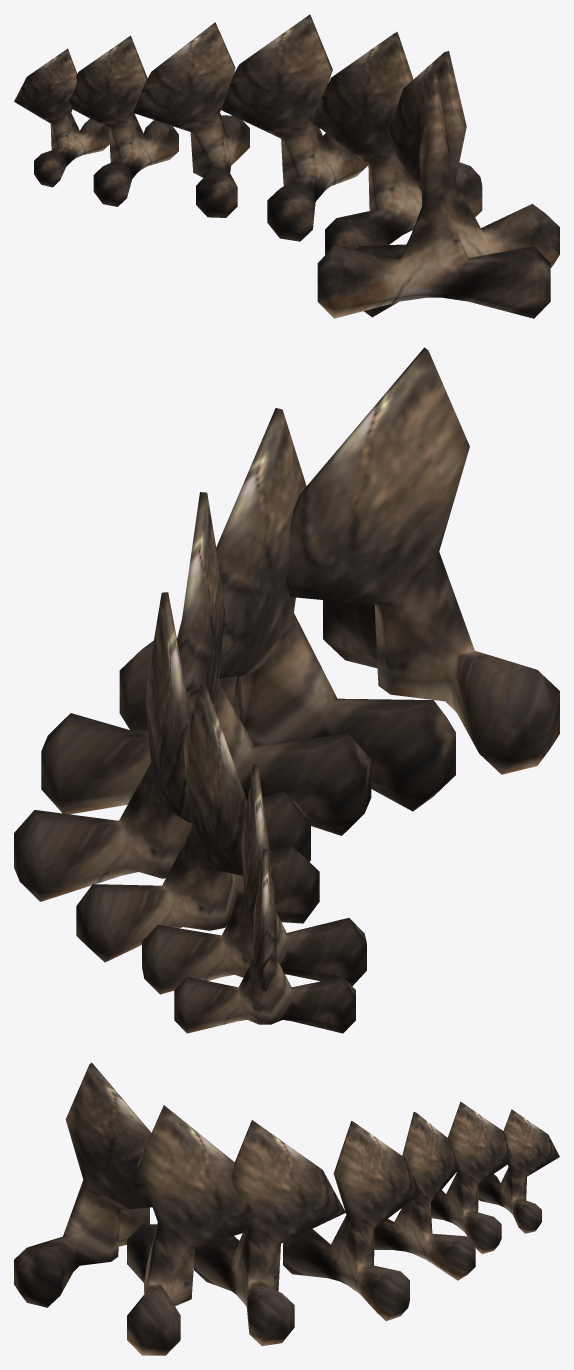
3 renders of one model, top to bottom at view 1: azimuth 30°, elevation 25°; view 2: azimuth 150°, elevation 25°; view 3: azimuth 270°, elevation 25°, orthographic. The views are drawn at different scales.
Visible parts, largest first — view 1: SMDImport; view 2: SMDImport; view 3: SMDImport.
Part boxes in pixels (x1,y1,x2,y2): SMDImport: [14, 14, 559, 318]; SMDImport: [14, 347, 559, 1033]; SMDImport: [14, 1062, 559, 1355].
Size of the model in its own units: 165 by 123 by 264.
